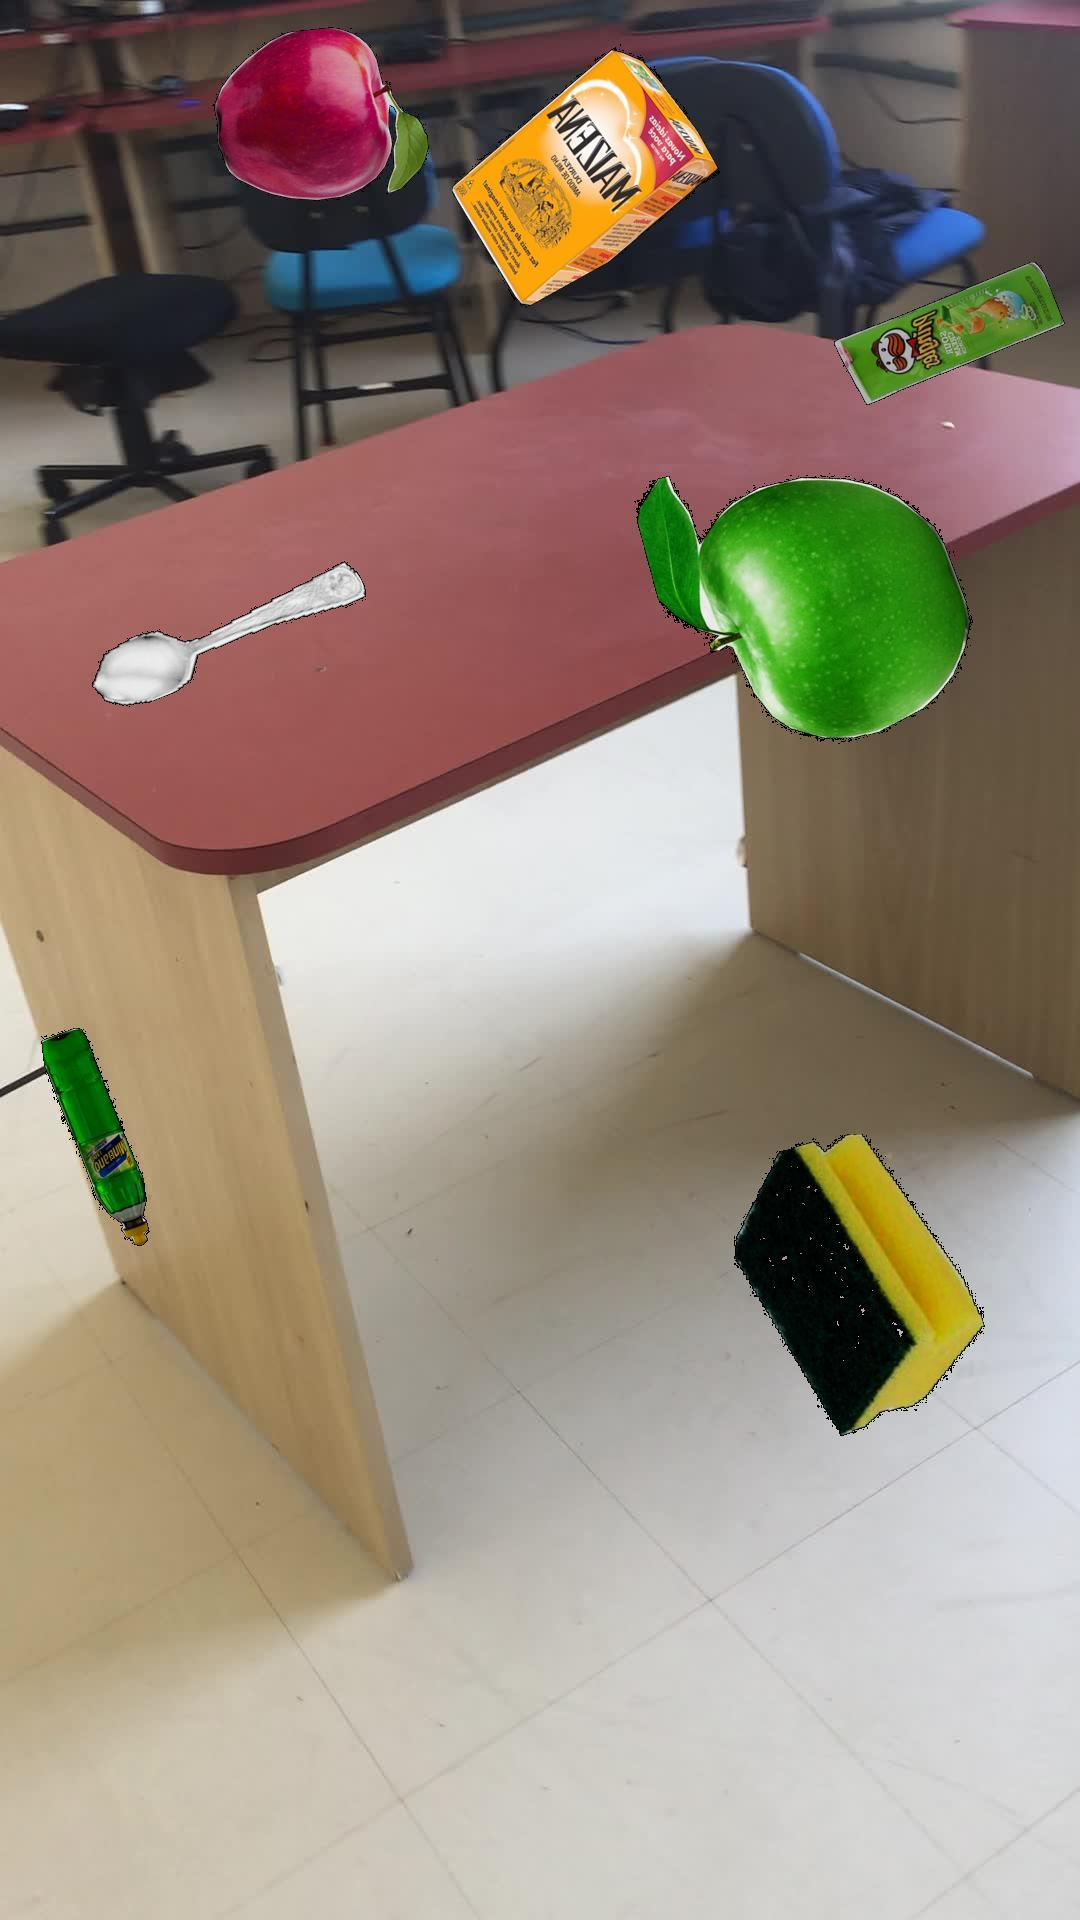apple: (211, 25, 427, 199)
cleaner: (40, 1026, 149, 1245)
green apple: (634, 475, 972, 741)
pringles: (832, 261, 1063, 404)
sponge: (732, 1133, 984, 1435)
spoon: (91, 559, 364, 704)
